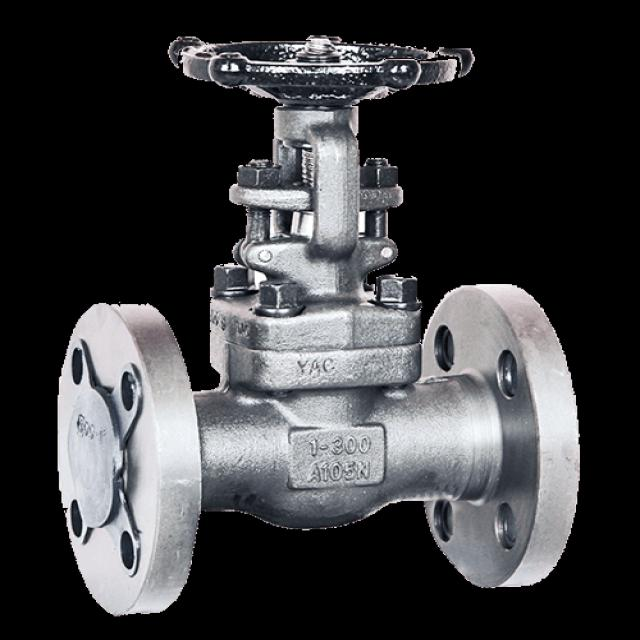Wheel Handle Valve Threaded: (137, 26, 521, 115)
